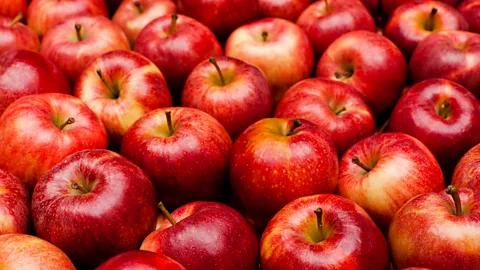non-mango: (0, 0, 478, 269)
